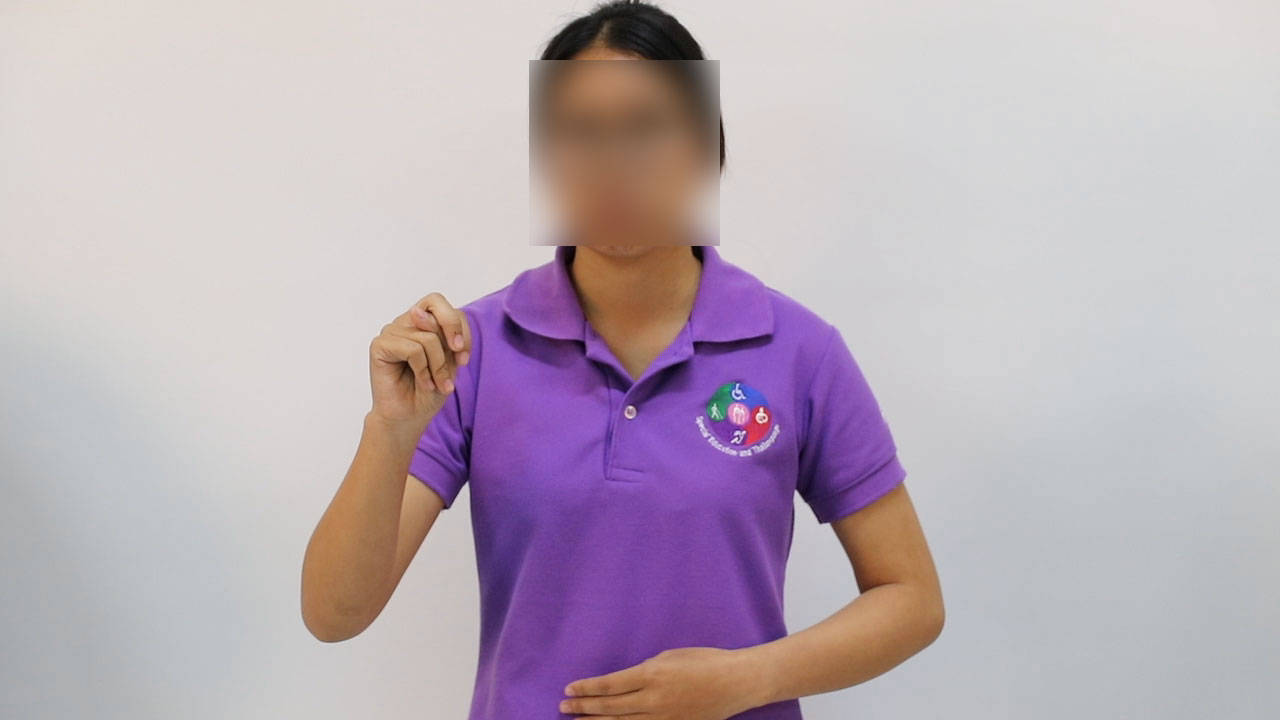nor: (360, 286, 479, 427)
